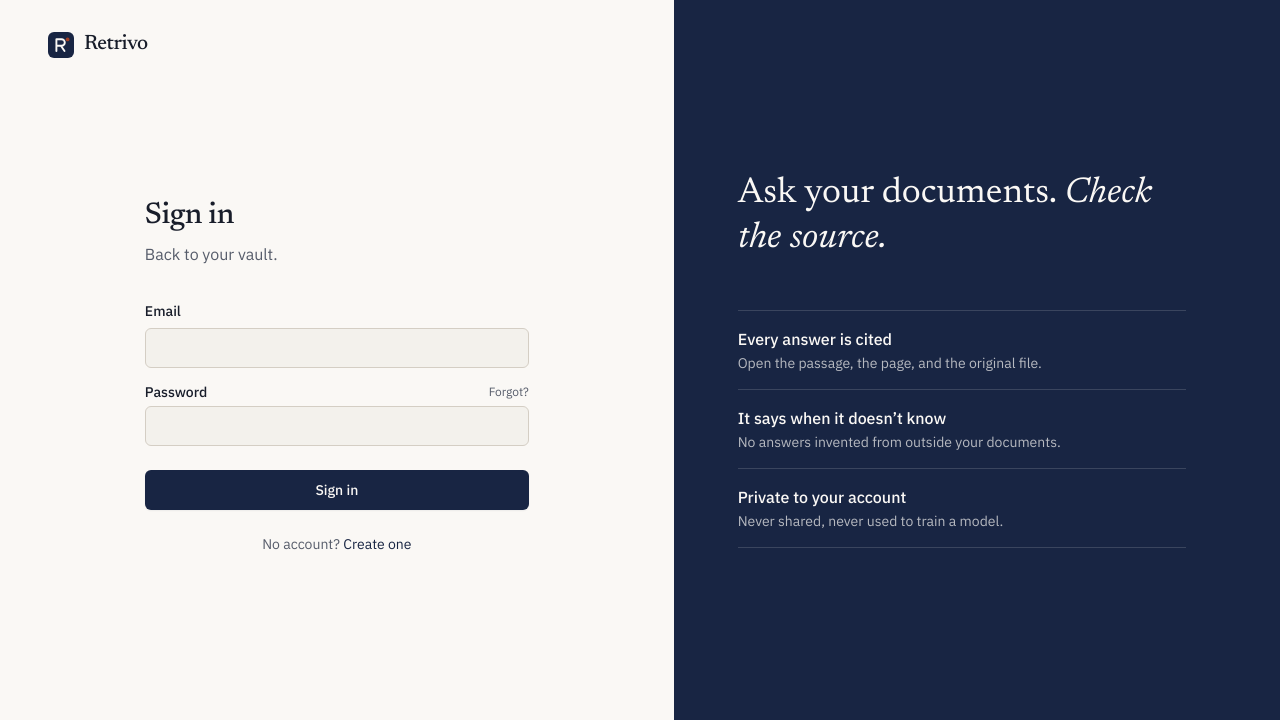
it: Login page › shows a focused error summary on failure
The width and height of the screenshot is (1280, 720).
Type "ada@example.com" into the field labelled "Email" at (337, 348), box [145, 328, 529, 368]
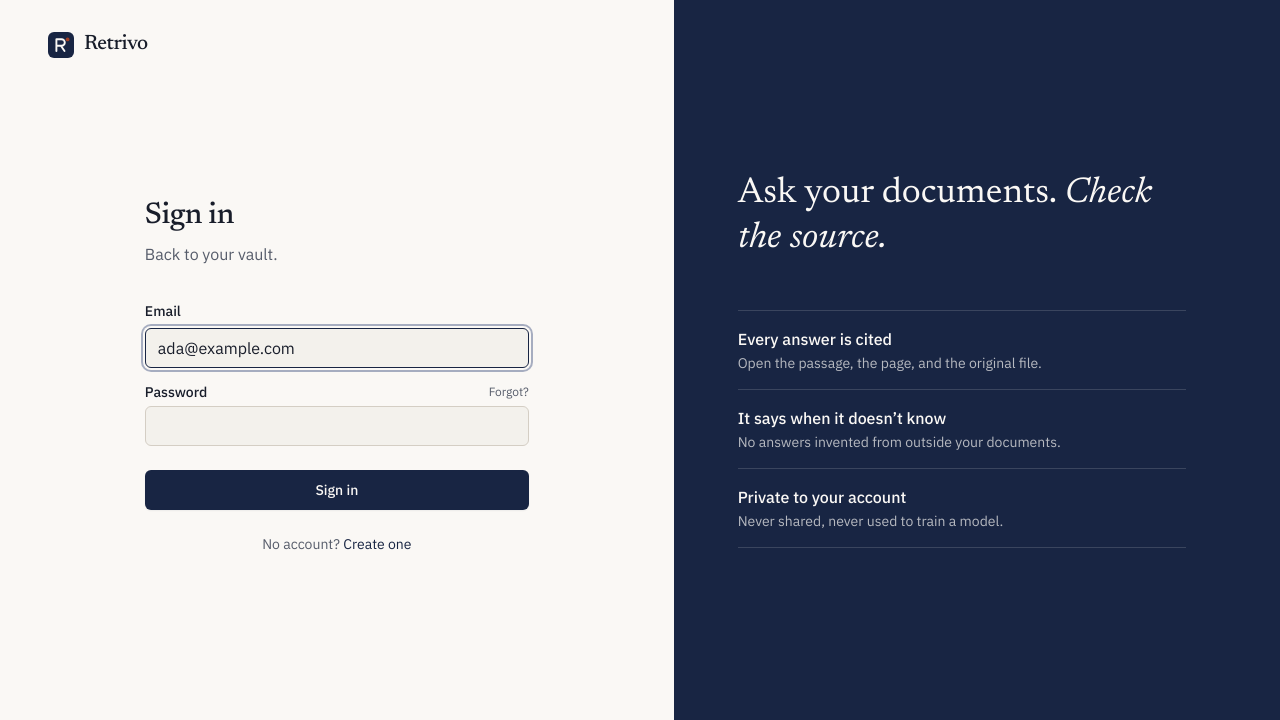
Type "wrongpass1" into the password field labelled "Password" at (337, 426), box [145, 406, 529, 446]
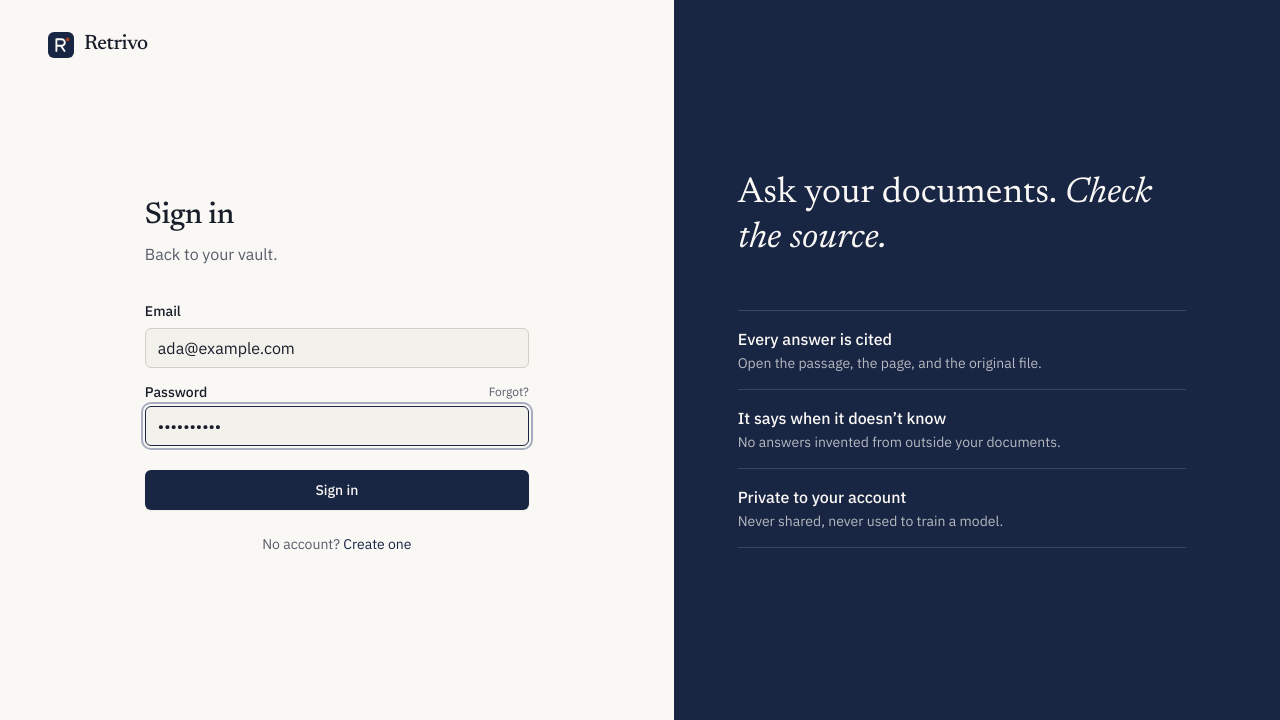
Click the button "Sign in" at (337, 490), box [145, 470, 529, 510]
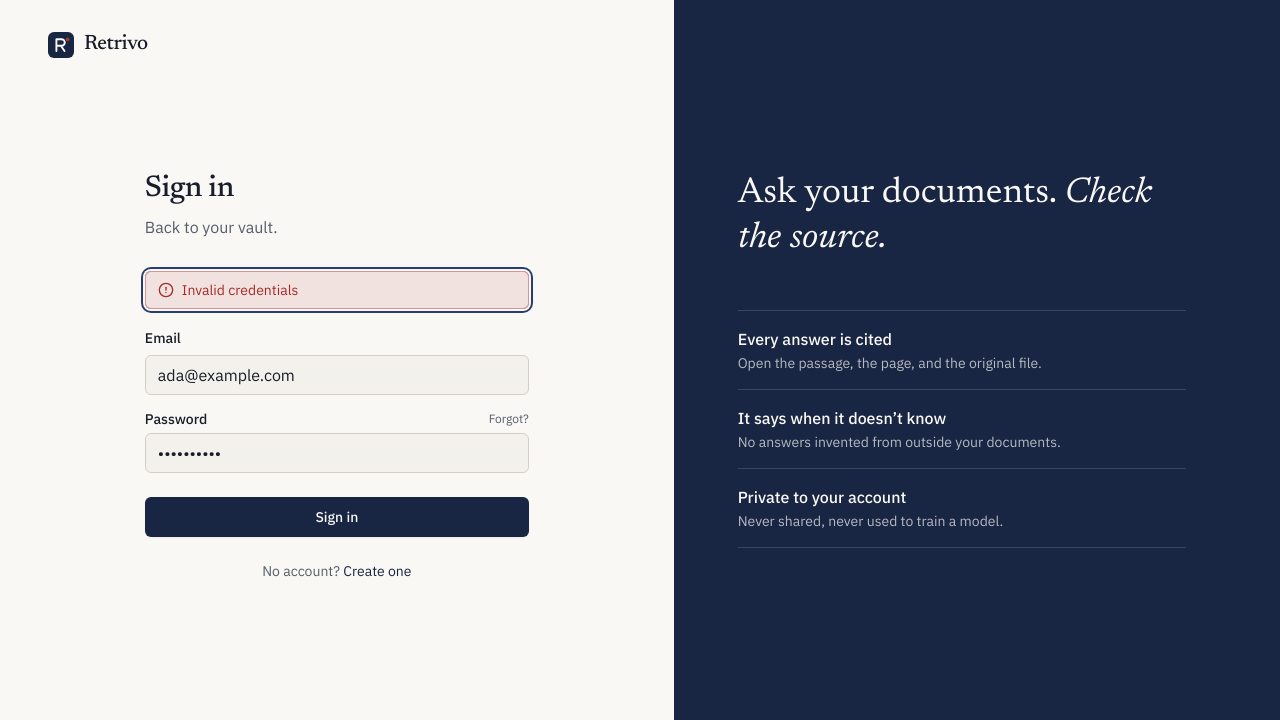
Now the message reads "Invalid credentials", box [182, 281, 298, 299]
